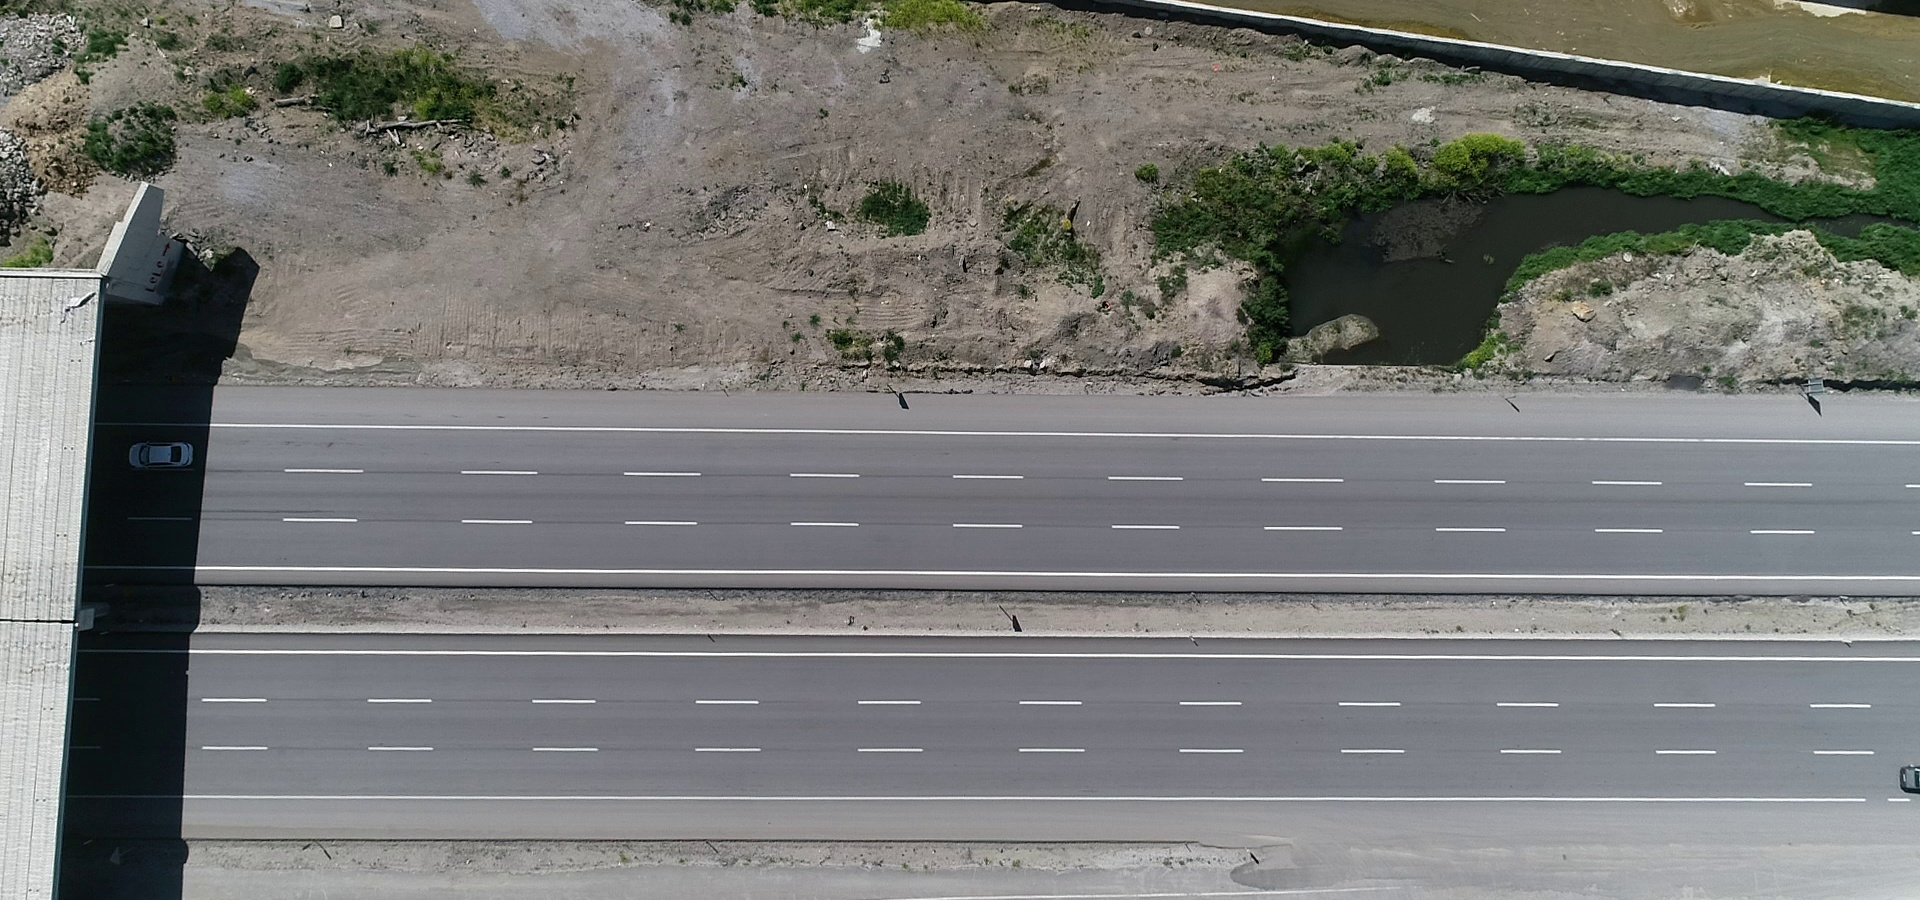araba: (118, 435, 198, 479), (1896, 762, 1920, 784)
